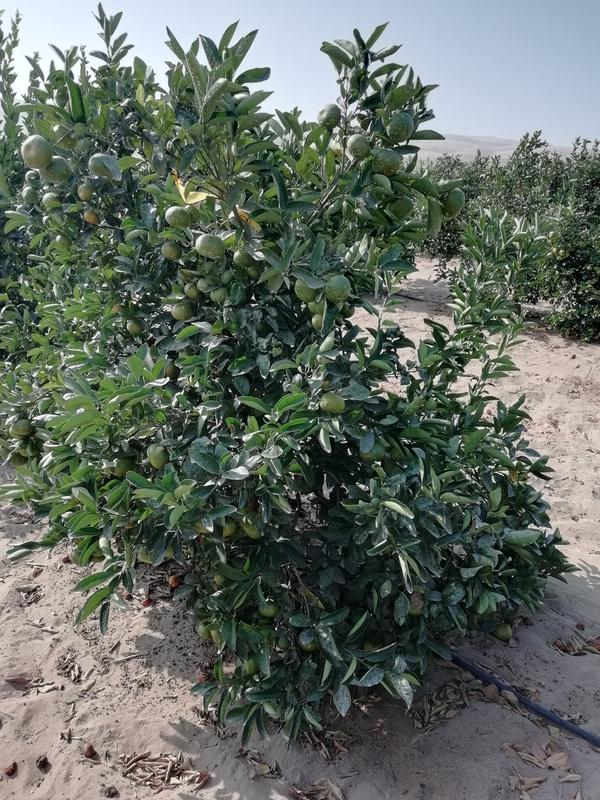mandarina verde: (22, 134, 52, 171), (385, 110, 416, 141), (193, 232, 227, 259), (42, 158, 71, 185), (325, 275, 351, 303), (374, 148, 401, 174), (444, 189, 466, 218), (317, 103, 341, 129), (164, 205, 191, 228), (348, 134, 370, 159), (319, 394, 347, 413), (147, 444, 164, 469), (161, 241, 182, 261), (170, 302, 192, 321), (232, 248, 254, 267), (20, 185, 39, 205), (260, 599, 277, 618)
